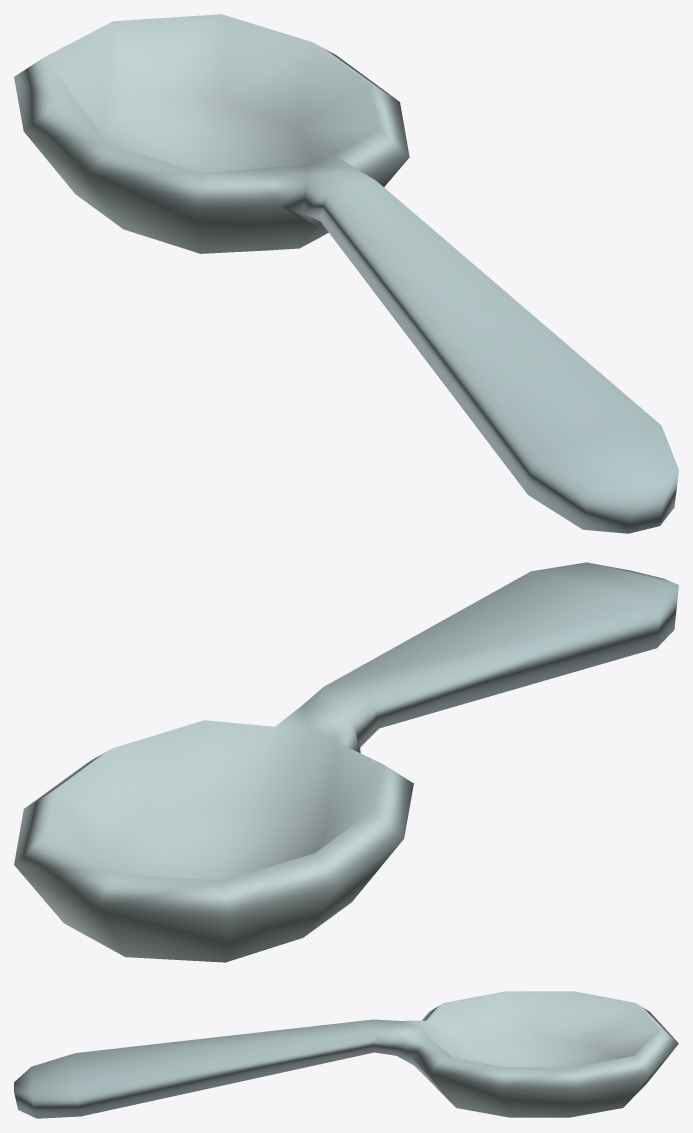
File: small_spoon_01.fbx
3 views of the same model, one above another, from view 1: azimuth 30°, elevation 25°; view 2: azimuth 150°, elevation 25°; view 3: azimuth 270°, elevation 25° (orthographic). The views are drawn at different scales.
Visible parts, largest first — view 1: small_spoon_01; view 2: small_spoon_01; view 3: small_spoon_01.
Part boxes in pixels (box(x1,y1,x2,y2)): small_spoon_01: box(14, 14, 678, 533); small_spoon_01: box(14, 562, 678, 962); small_spoon_01: box(14, 991, 678, 1118).
Bounding box in the file's own units: 8.39 × 3.39 × 25.43.
